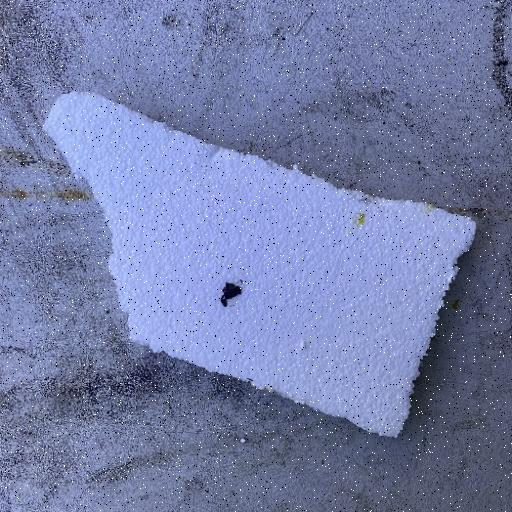Plastic: (40, 88, 478, 440)
